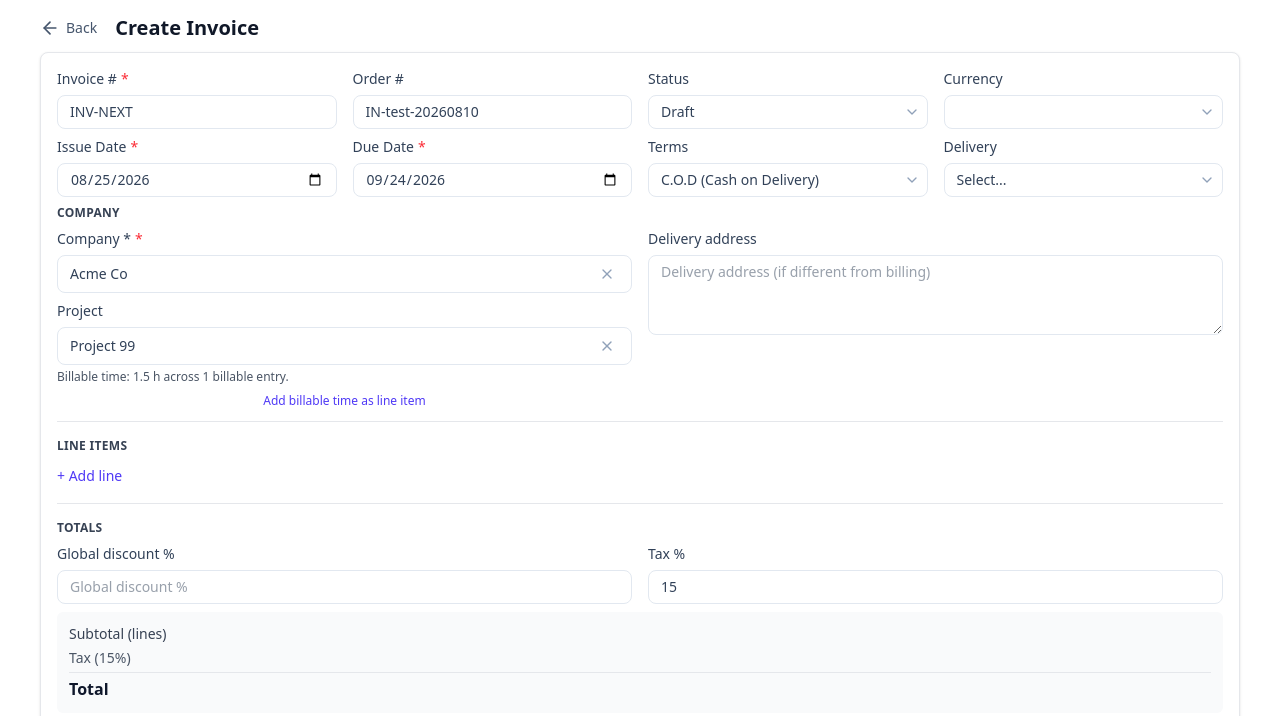
InvoiceForm billable time summary › adds a line item when Add billable time is clicked
The width and height of the screenshot is (1280, 716).
Expected: the text "Billable time: 1.5 h across 1 billable entry." is shown, [57,368,289,385]
Click the button "Add billable time as line item": (344, 401) [57,393,632,409]
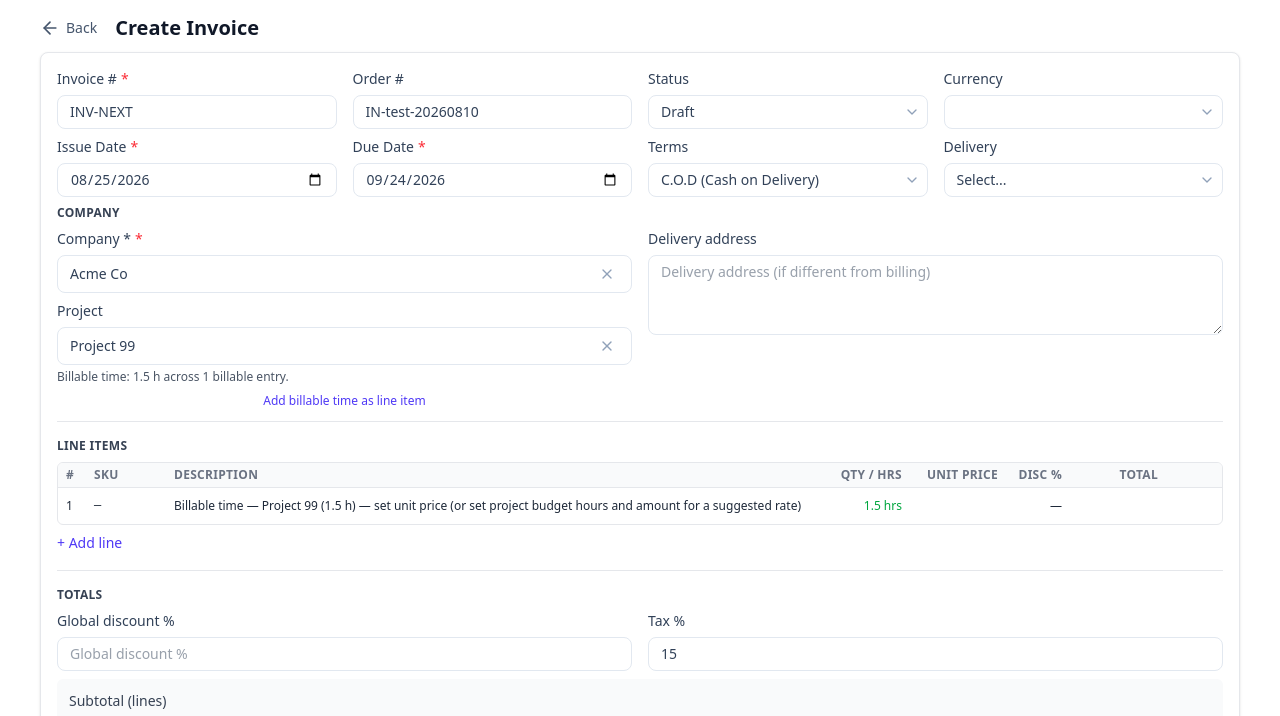
Result: the text "Billable time — Project 99" is shown at [174,497,801,514]
